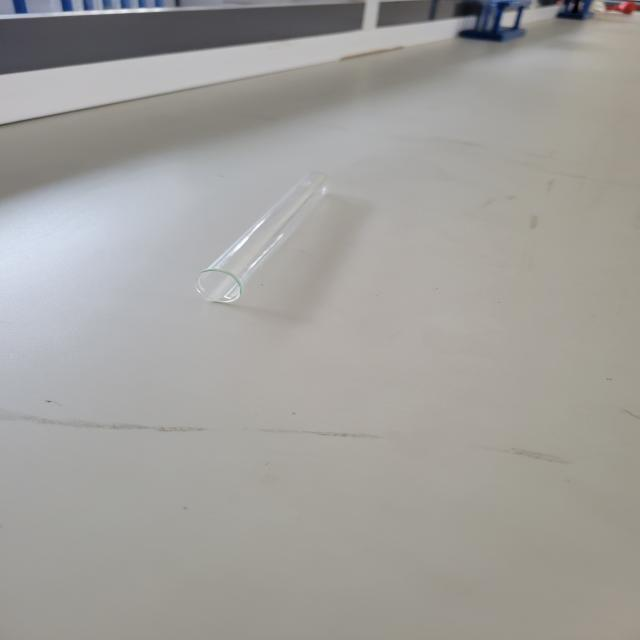Test_Tube: (165, 156, 364, 334)
